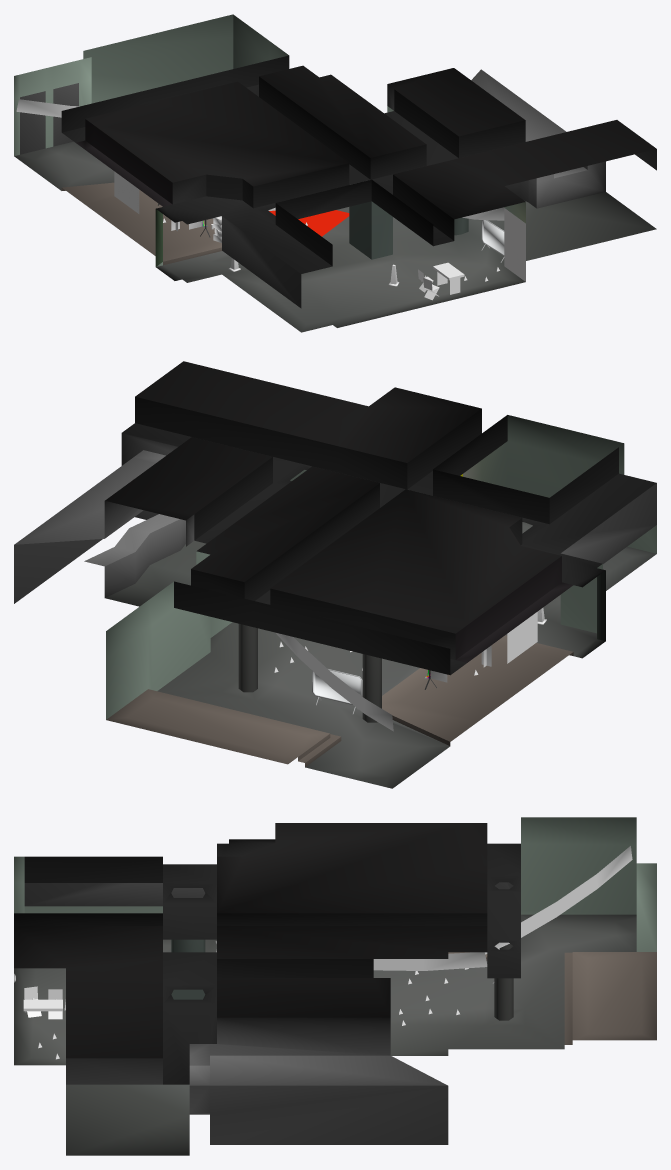
Rendered from MainBarArea.glb.
3 views of the same model, one above another, from view 1: azimuth 30°, elevation 25°; view 2: azimuth 150°, elevation 25°; view 3: azimuth 270°, elevation 25° (orthographic). The views are drawn at different scales.
Visible parts, largest first — view 1: ROOM, ROOM.016, ROOM.002, ROOM.005, ROOM.007, ROOM.003, ROOM.012, ROOM.008, ROOM.004, ROOM.020, ROOM.013, ROOM.022 (+7 smaller); view 2: ROOM, ROOM.002, ROOM.016, ROOM.005, ROOM.020, ROOM.012, ROOM.003, ROOM.018, ROOM.017, ROOM.014, ROOM.004, ROOM.013 (+6 smaller); view 3: ROOM.016, ROOM, ROOM.020, ROOM.002, ROOM.005, ROOM.009, ROOM.003, ROOM.017, ROOM.004, ROOM.013, BUNTING2, ROOM.007 (+4 smaller).
Part boxes in pixels (box(x1,y1,x2,y2)): ROOM: box(61, 55, 656, 273); ROOM.016: box(14, 141, 656, 332); ROOM.002: box(85, 81, 348, 186); ROOM.005: box(393, 120, 656, 219); ROOM.007: box(83, 14, 233, 103); ROOM.003: box(259, 65, 425, 157); ROOM.012: box(61, 182, 221, 265); ROOM.008: box(14, 57, 91, 155); ROOM.004: box(387, 68, 525, 136); ROOM.020: box(471, 69, 605, 208); ROOM.013: box(222, 216, 301, 308); ROOM.022: box(349, 201, 392, 259); ROOM: box(122, 396, 656, 675); ROOM.002: box(270, 489, 561, 633); ROOM.016: box(105, 522, 656, 788); ROOM.005: box(135, 361, 481, 462); ROOM.020: box(14, 433, 185, 603); ROOM.012: box(382, 635, 573, 745); ROOM.003: box(191, 466, 379, 581); ROOM.018: box(106, 551, 232, 719); ROOM.017: box(106, 689, 341, 767); ROOM.014: box(463, 415, 624, 497); ROOM.004: box(105, 437, 272, 520); ROOM.013: box(561, 483, 656, 563); ROOM.016: box(14, 914, 636, 1155); ROOM: box(14, 839, 520, 1084); ROOM.020: box(189, 1017, 448, 1144); ROOM.002: box(217, 823, 487, 913); ROOM.005: box(14, 926, 162, 1058); ROOM.009: box(521, 817, 636, 914); ROOM.003: box(217, 926, 487, 958); ROOM.017: box(564, 952, 656, 1044); ROOM.004: box(217, 978, 390, 1017); ROOM.013: box(24, 883, 205, 913); BUNTING2: box(485, 846, 632, 954); ROOM.007: box(636, 863, 656, 951).
Bounding box in the file's own units: 20.29 × 3.75 × 22.48.
